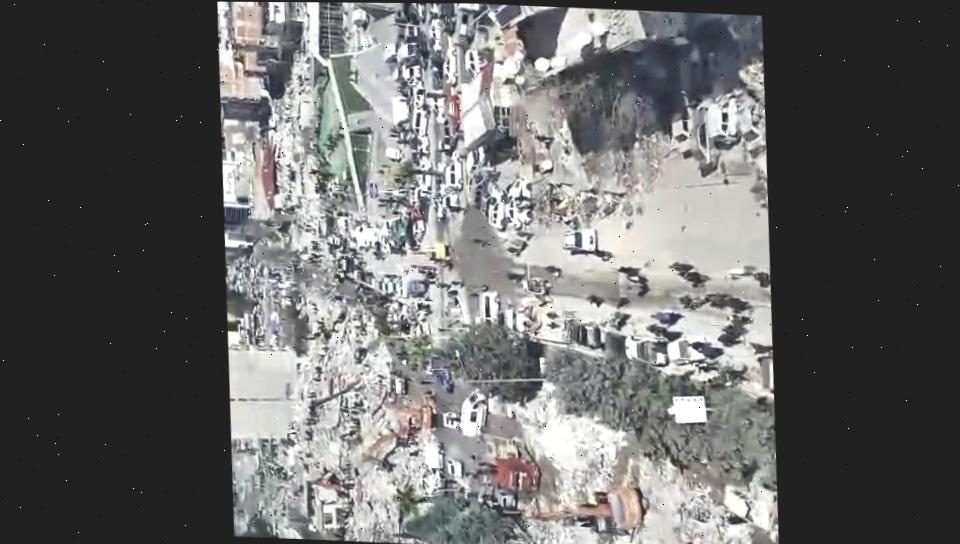kapali: (512, 393, 779, 544)
